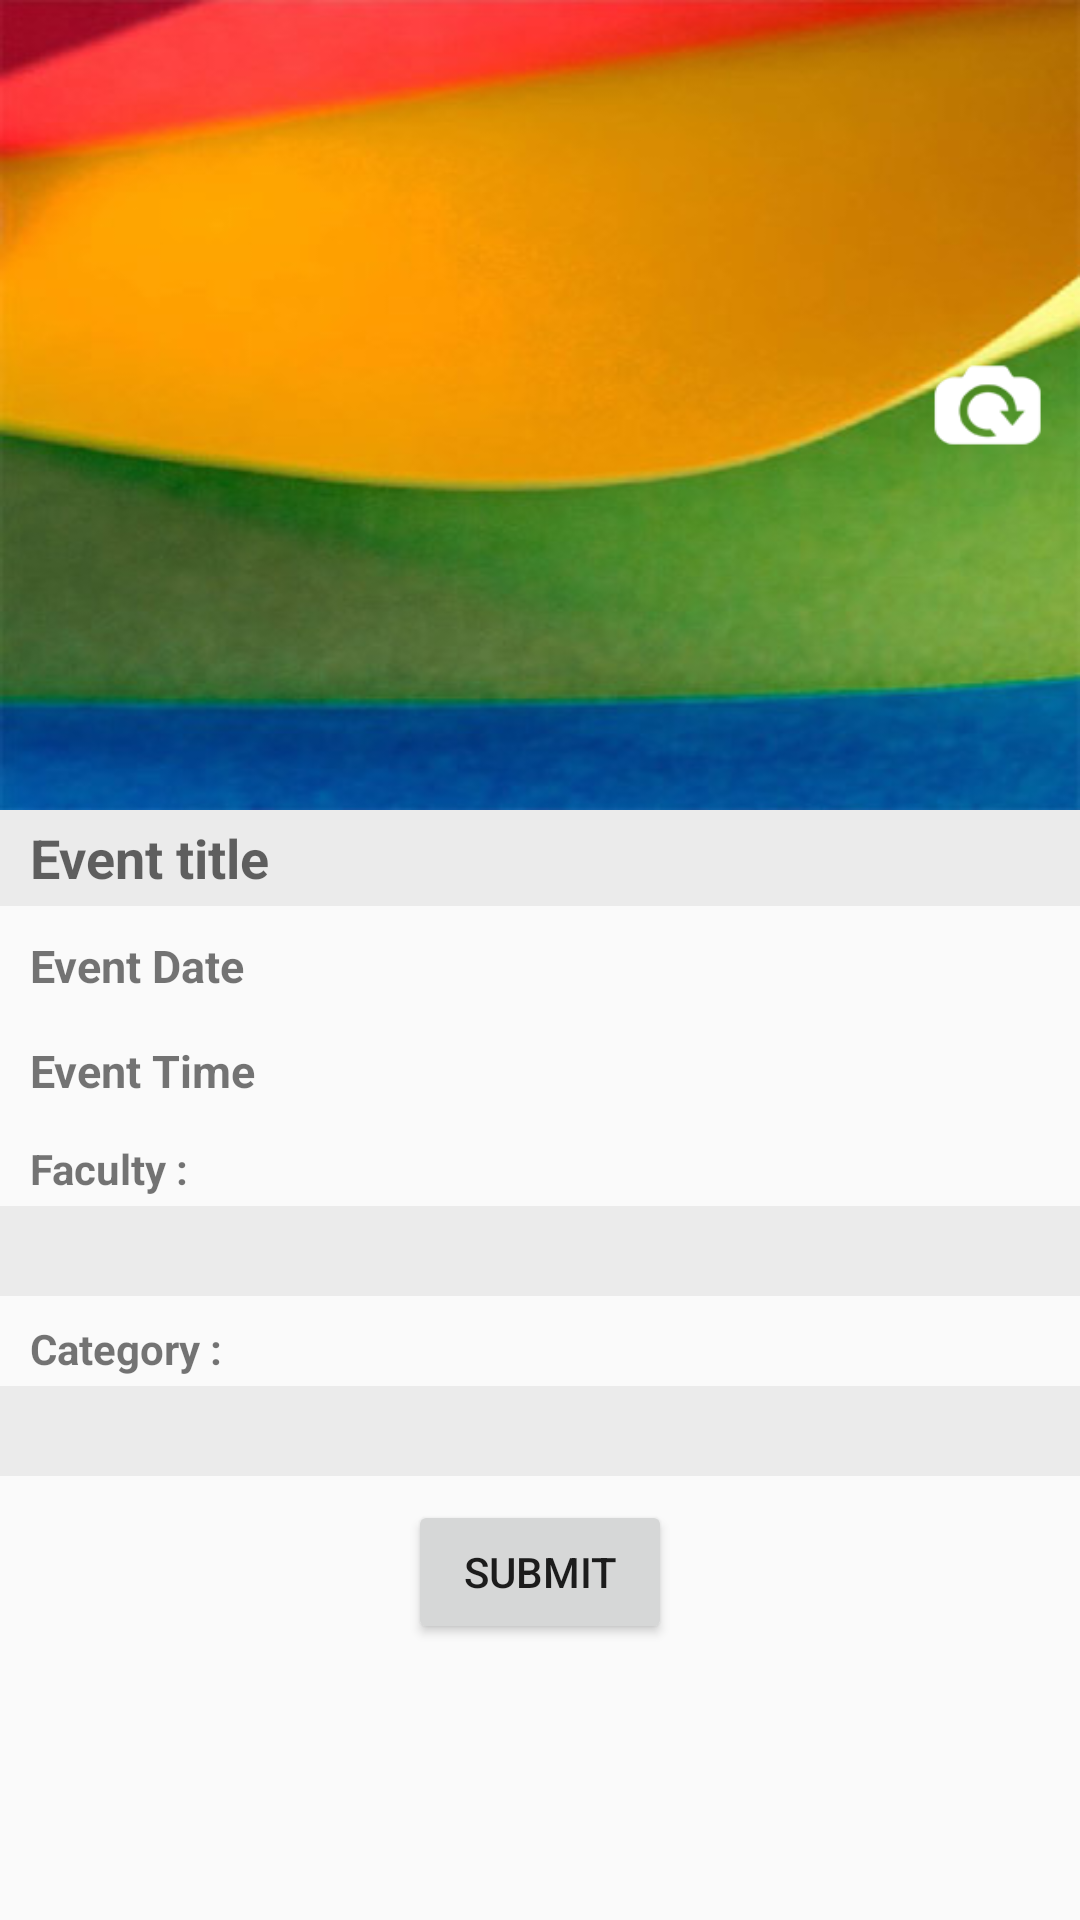

Screen size 1080*1920. Icon name, then its center in pixels as (x,y):
update pic: (988,395)
